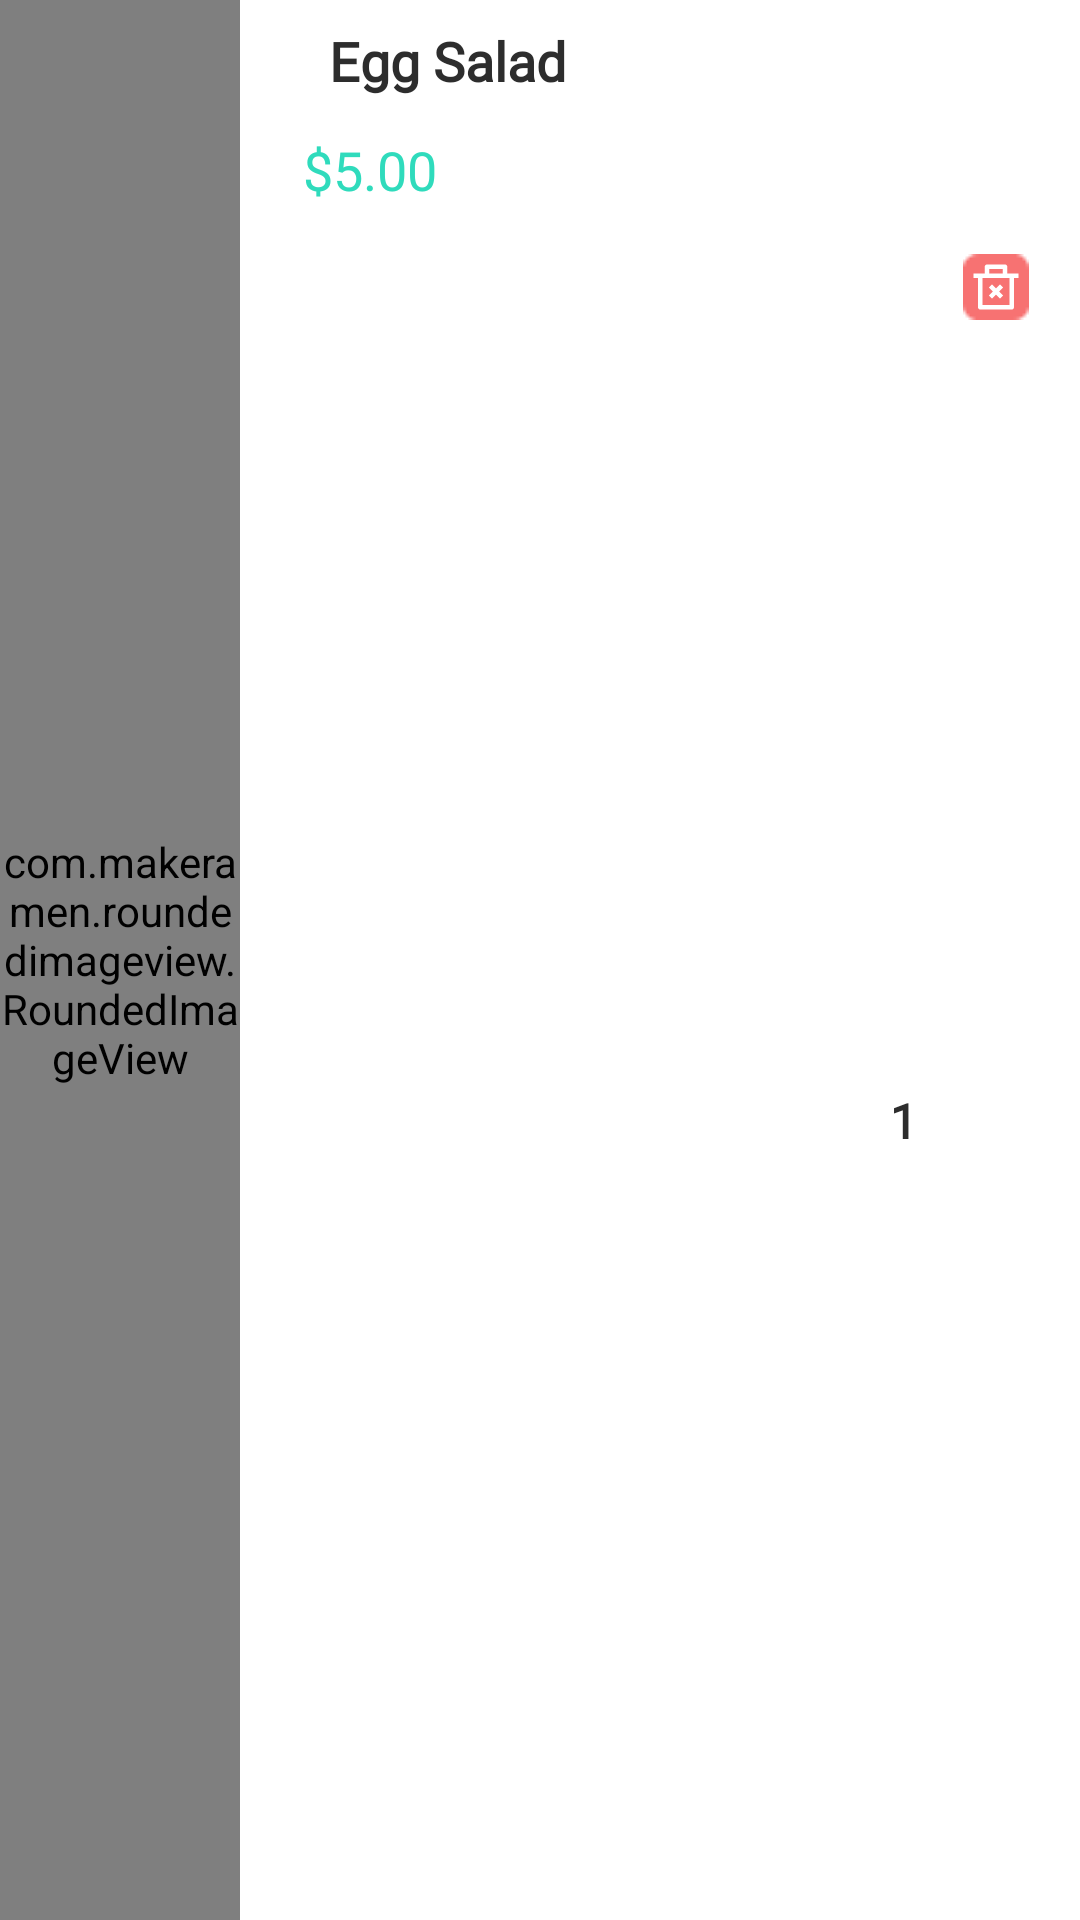

Screen size 1080 x 1920. Icon name, then its center in pixels as point (x, y):
trash: point (996, 287)
